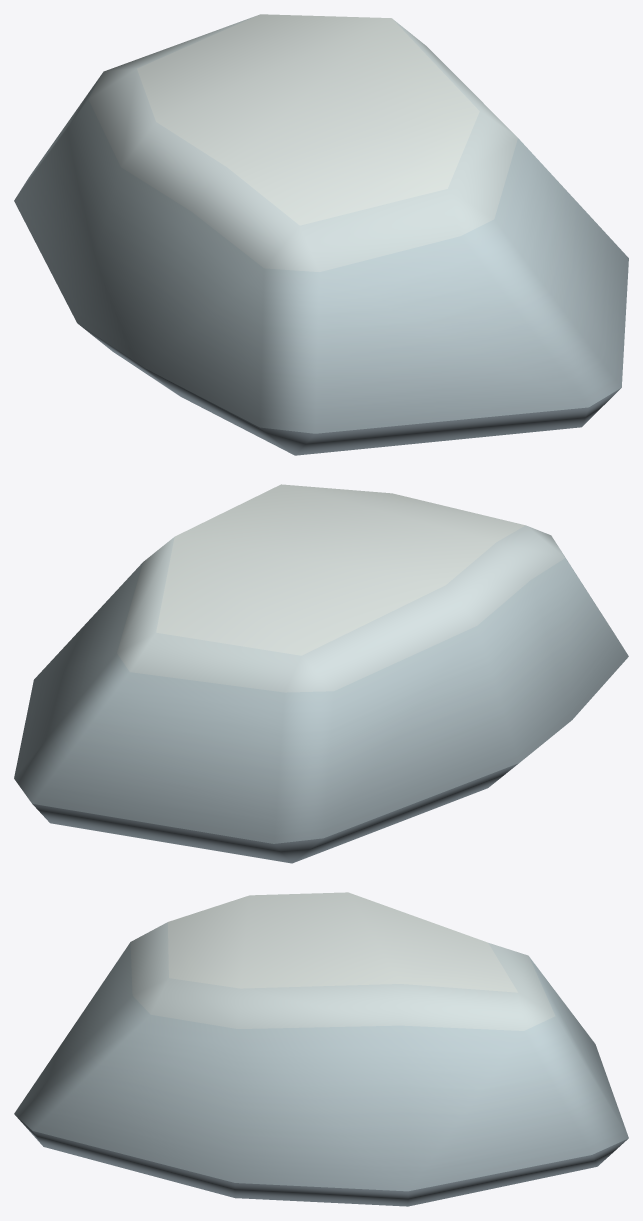
File: rock_snow_03.fbx
3 renders of one model, top to bottom at view 1: azimuth 30°, elevation 25°; view 2: azimuth 150°, elevation 25°; view 3: azimuth 270°, elevation 25°, orthographic. The views are drawn at different scales.
Visible parts, largest first — view 1: rock_snow_03; view 2: rock_snow_03; view 3: rock_snow_03.
Part boxes in pixels (x1,y1,x2,y2): rock_snow_03: (14,14,628,455); rock_snow_03: (14,484,628,863); rock_snow_03: (14,892,628,1206).
Size of the model in its own units: 76.38 by 33.45 by 105.
1 material, 1 textured.
